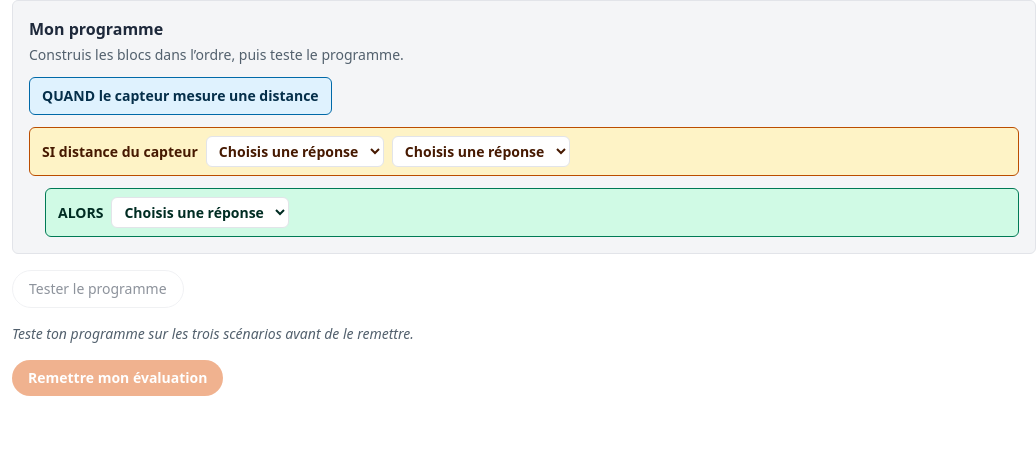
SommativeBlockProgram (docs/SPEC.md § 23, § 30) › redemande un test si la configuration change après un premier essai
This screenshot has width=1036, height=463.
Select "inférieure à" in the dropdown named "Comparateur" at (295, 152), box top-left (206, 136), bottom-right (384, 167)
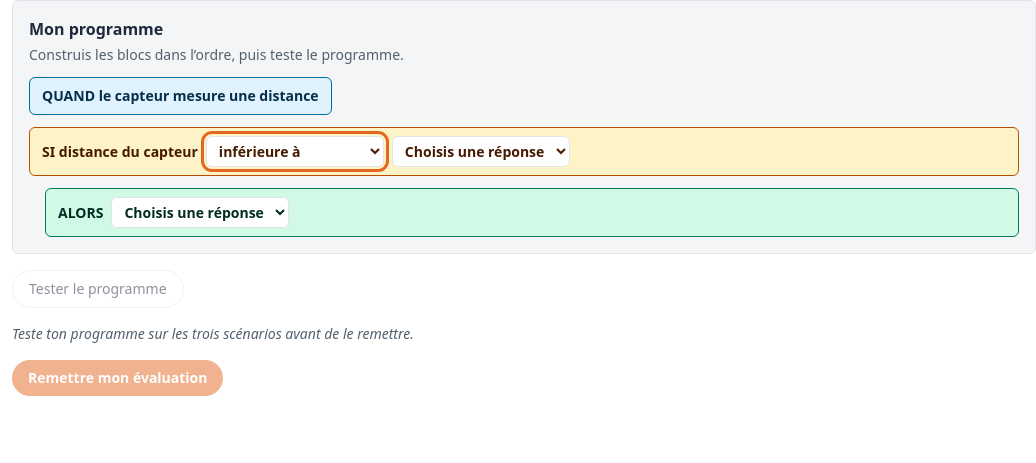
Select "2 m" in the dropdown named "Seuil" at (481, 152), box top-left (392, 136), bottom-right (570, 167)
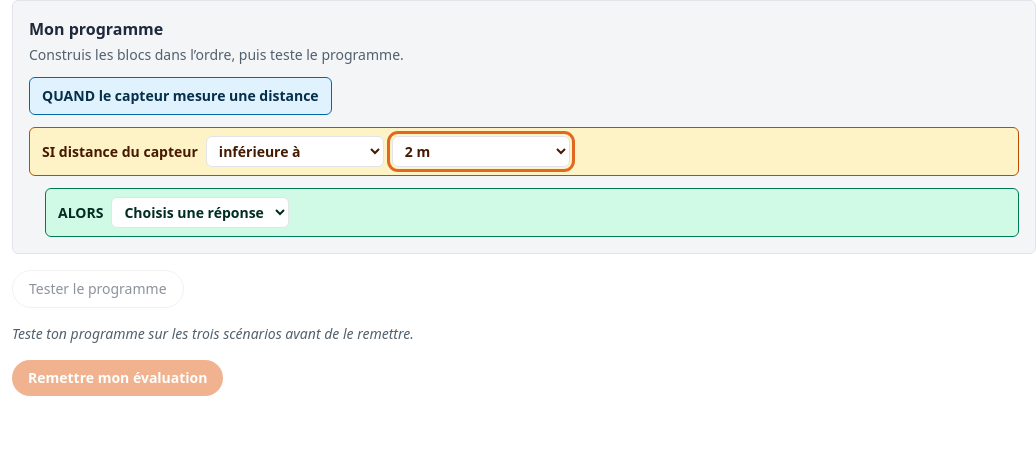
Select "Arrêter l’engin" in the dropdown named "Action si la condition est vraie" at (200, 212), box top-left (111, 197), bottom-right (289, 228)
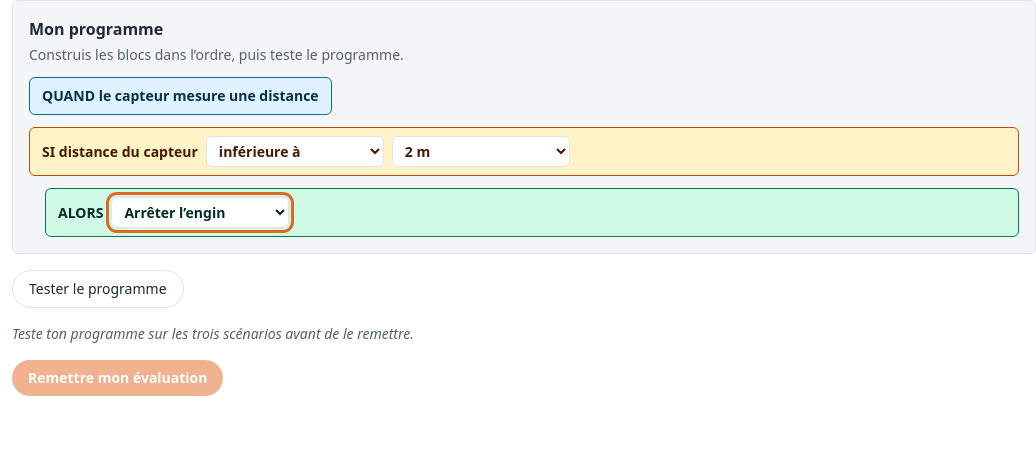
Click the button "Tester le programme" at (98, 289), box top-left (12, 270), bottom-right (184, 308)
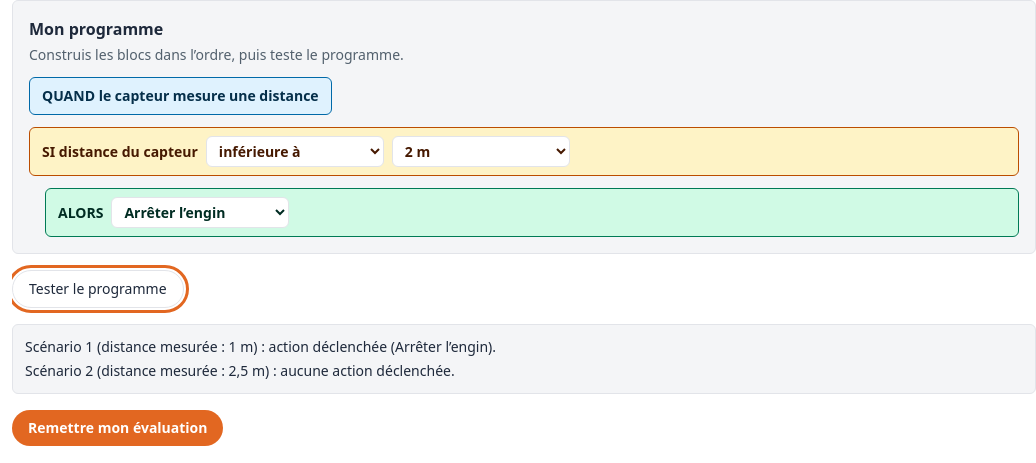
Result: the button "Remettre mon évaluation" is enabled at top-left (12, 410), bottom-right (224, 446)
Select "3 m" in the dropdown named "Seuil" at (481, 152), box top-left (392, 136), bottom-right (570, 167)
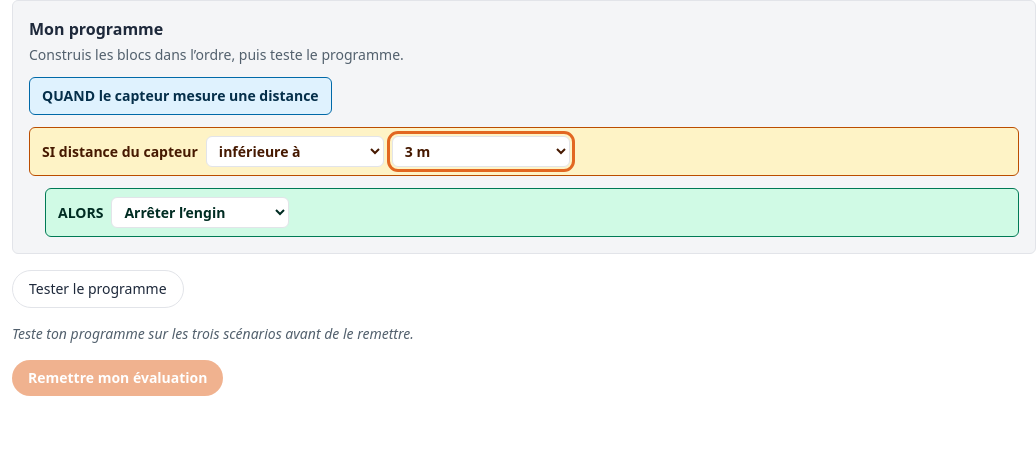
Result: the button "Remettre mon évaluation" is disabled at top-left (12, 360), bottom-right (224, 396)
Result: the text "Teste ton programme sur les trois scénarios avant de le remettre." is shown at top-left (12, 324), bottom-right (414, 343)
